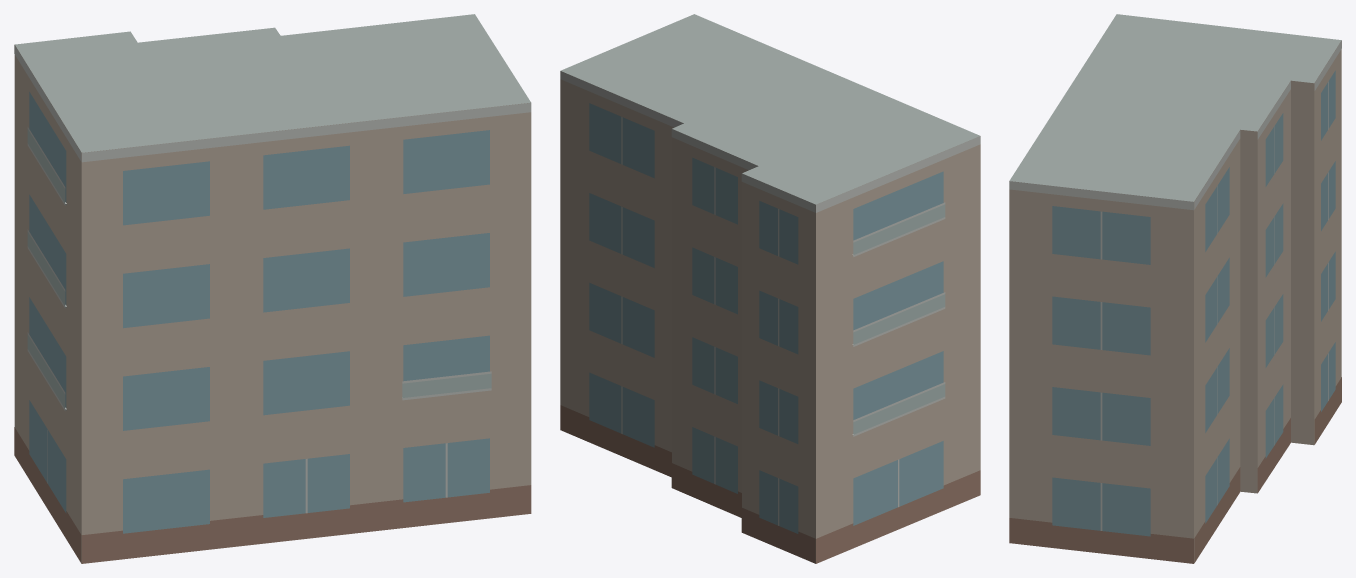
The model's file is survey-upis-33044197.glb.
3 views of the same model, side by side, from view 1: azimuth 30°, elevation 25°; view 2: azimuth 150°, elevation 25°; view 3: azimuth 270°, elevation 25° (orthographic). The views are drawn at different scales.
Parts seen in each view (by area): view 1: survey-upis-33044197.tmp; view 2: survey-upis-33044197.tmp; view 3: survey-upis-33044197.tmp.
Part boxes in pixels (left/top/right/bottom): survey-upis-33044197.tmp: left=14, top=14, right=531, bottom=563; survey-upis-33044197.tmp: left=560, top=14, right=980, bottom=563; survey-upis-33044197.tmp: left=1009, top=14, right=1341, bottom=563.
Bounding box in the file's own units: 11.69 × 10.5 × 8.75.
